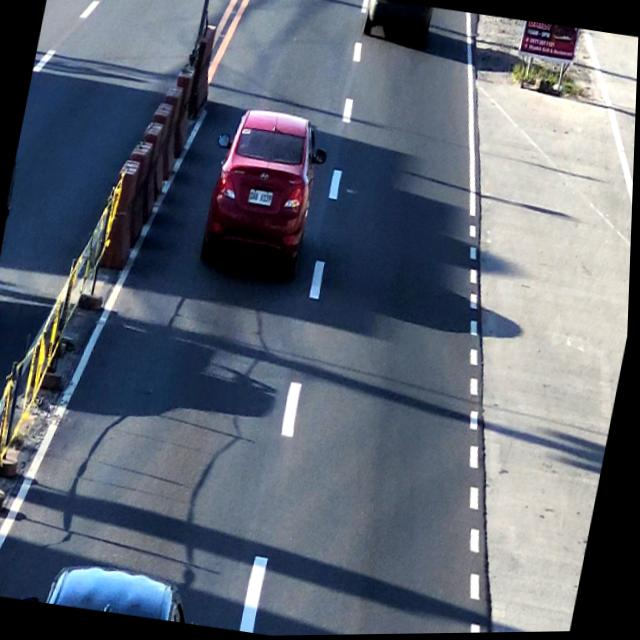Car: (197, 105, 329, 281), (40, 558, 213, 628), (359, 0, 444, 46)
License-Plate: (247, 183, 277, 210)
